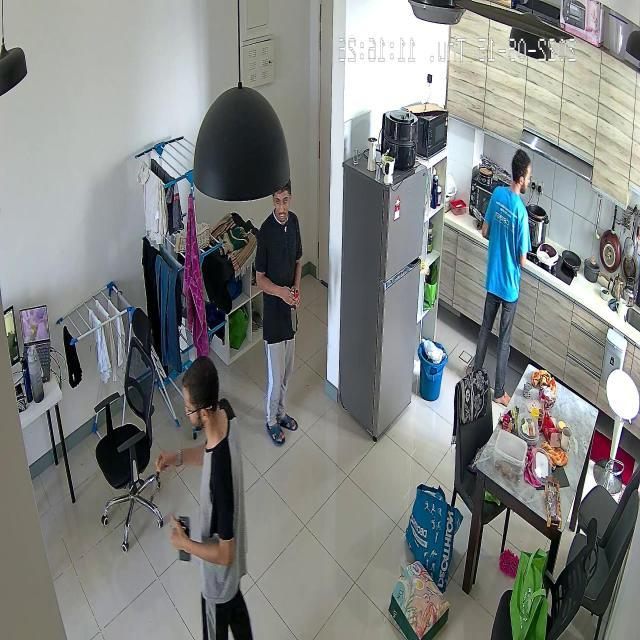Knife: (283, 300, 304, 340)
